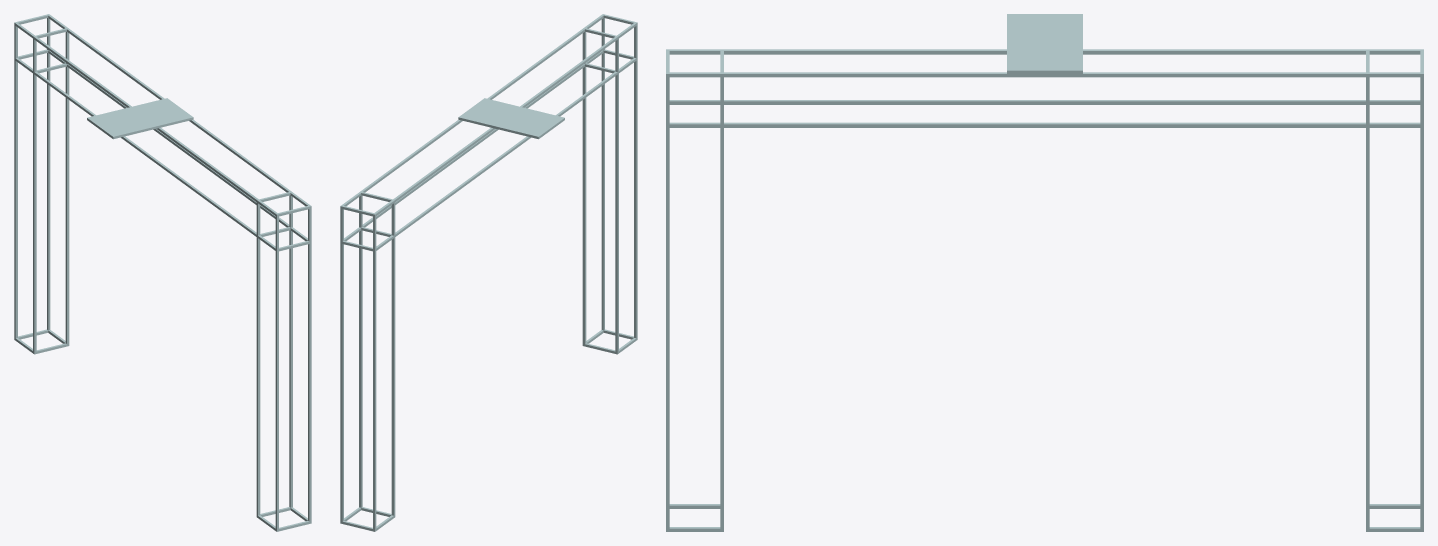
The model's file is 柱子与梁.FBX.
The picture shows the model from 3 angles, left to right: view 1: azimuth 30°, elevation 25°; view 2: azimuth 150°, elevation 25°; view 3: azimuth 270°, elevation 25°; orthographic projection. The views are drawn at different scales.
Visible parts, largest first — view 1: Rectangle1734, Rectangle1718, Rectangle1725, Rectangle1716, Rectangle1717, Rectangle1726, Rectangle1724, Rectangle1712, Rectangle1719, Rectangle1714, Rectangle1713, Rectangle1727 (+3 smaller); view 2: Rectangle1734, Rectangle1724, Rectangle1719, Rectangle1726, Rectangle1718, Rectangle1727, Rectangle1716, Rectangle1712, Rectangle1725, Rectangle1714, Rectangle1713, Rectangle1717 (+3 smaller); view 3: Rectangle1734, Rectangle1715, Rectangle1714, Rectangle1712, Rectangle1713, Rectangle1727, Rectangle1725, Rectangle1717, Rectangle1719.
Part boxes in pixels (x1,y1,x2,y2): Rectangle1734: [87, 98, 193, 139]; Rectangle1718: [256, 199, 260, 516]; Rectangle1725: [65, 28, 69, 345]; Rectangle1716: [275, 213, 278, 531]; Rectangle1717: [308, 205, 311, 523]; Rectangle1726: [14, 22, 17, 340]; Rectangle1724: [33, 35, 36, 354]; Rectangle1712: [14, 23, 278, 216]; Rectangle1719: [289, 191, 292, 507]; Rectangle1714: [48, 15, 311, 208]; Rectangle1713: [15, 58, 278, 251]; Rectangle1727: [47, 14, 50, 330]; Rectangle1734: [458, 98, 564, 139]; Rectangle1724: [391, 199, 395, 517]; Rectangle1719: [582, 28, 586, 346]; Rectangle1726: [373, 213, 376, 531]; Rectangle1718: [615, 35, 618, 354]; Rectangle1727: [340, 205, 343, 523]; Rectangle1716: [634, 22, 637, 340]; Rectangle1712: [373, 23, 637, 216]; Rectangle1725: [359, 191, 362, 507]; Rectangle1714: [340, 15, 603, 208]; Rectangle1713: [373, 58, 636, 251]; Rectangle1717: [601, 14, 604, 330]; Rectangle1734: [1007, 14, 1082, 73]; Rectangle1715: [666, 122, 1423, 127]; Rectangle1714: [666, 72, 1423, 77]; Rectangle1712: [669, 49, 1420, 54]; Rectangle1713: [669, 100, 1420, 104]; Rectangle1727: [1420, 72, 1423, 531]; Rectangle1725: [1366, 72, 1369, 531]; Rectangle1717: [666, 72, 669, 531]; Rectangle1719: [720, 72, 723, 531].
Bounding box in the file's own units: 41.73 × 159 × 236.
